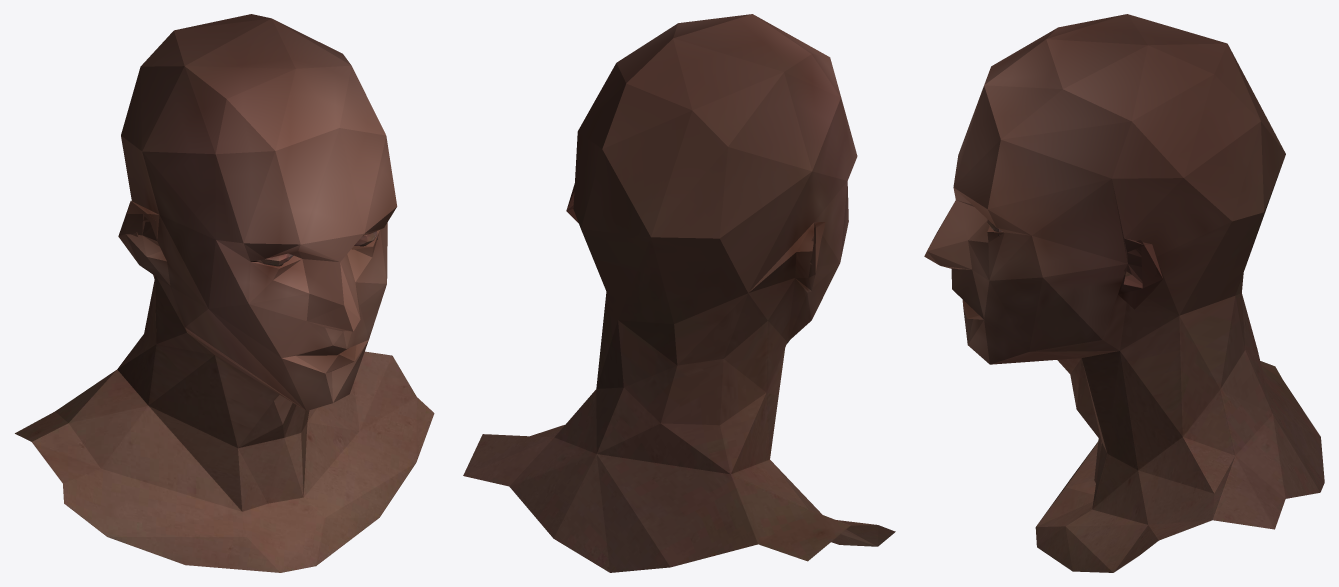
File: head_baked.gltf
3 views of the same model, side by side, from view 1: azimuth 30°, elevation 25°; view 2: azimuth 150°, elevation 25°; view 3: azimuth 270°, elevation 25° (orthographic). The views are drawn at different scales.
Parts seen in each view (by area): view 1: 0dcf062f88e741beac28166787231306; view 2: 0dcf062f88e741beac28166787231306; view 3: 0dcf062f88e741beac28166787231306.
Boxes of the visible parts, left/top/right/bottom form: 0dcf062f88e741beac28166787231306: left=15, top=14, right=434, bottom=572; 0dcf062f88e741beac28166787231306: left=463, top=14, right=895, bottom=572; 0dcf062f88e741beac28166787231306: left=924, top=14, right=1324, bottom=572.
Size of the model in its own units: 25.9 by 33.71 by 24.12.
Materials: 1 (1 with a texture image).
